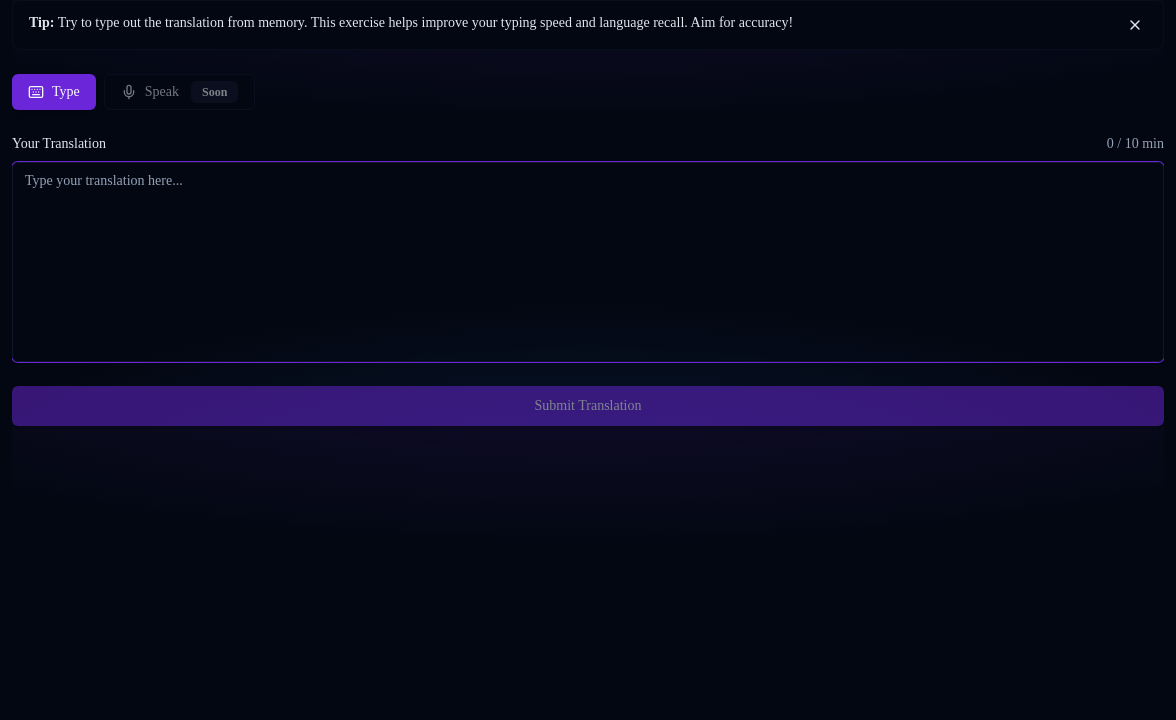
Test: ExerciseForm › displays error message when submission fails
Type "This is my translation answer" into the text box with placeholder "Type your translation here..." at (588, 262), box [12, 162, 1164, 362]
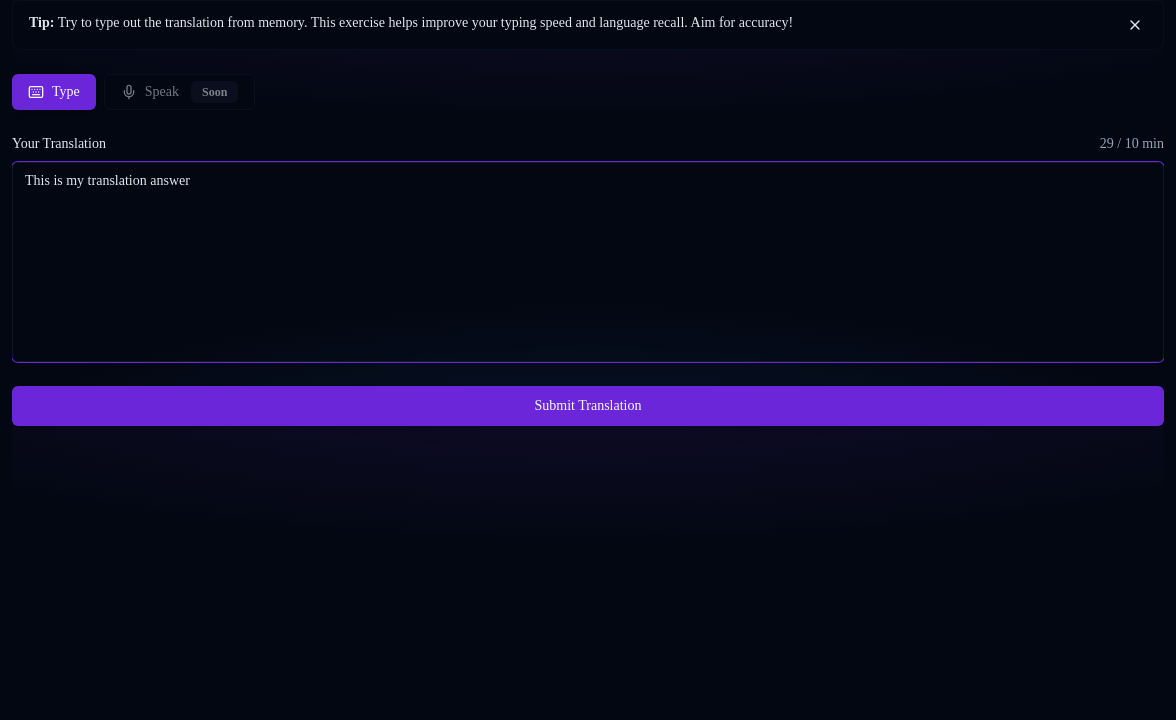
Click the button "Submit Translation" at (588, 406), box [12, 386, 1164, 426]
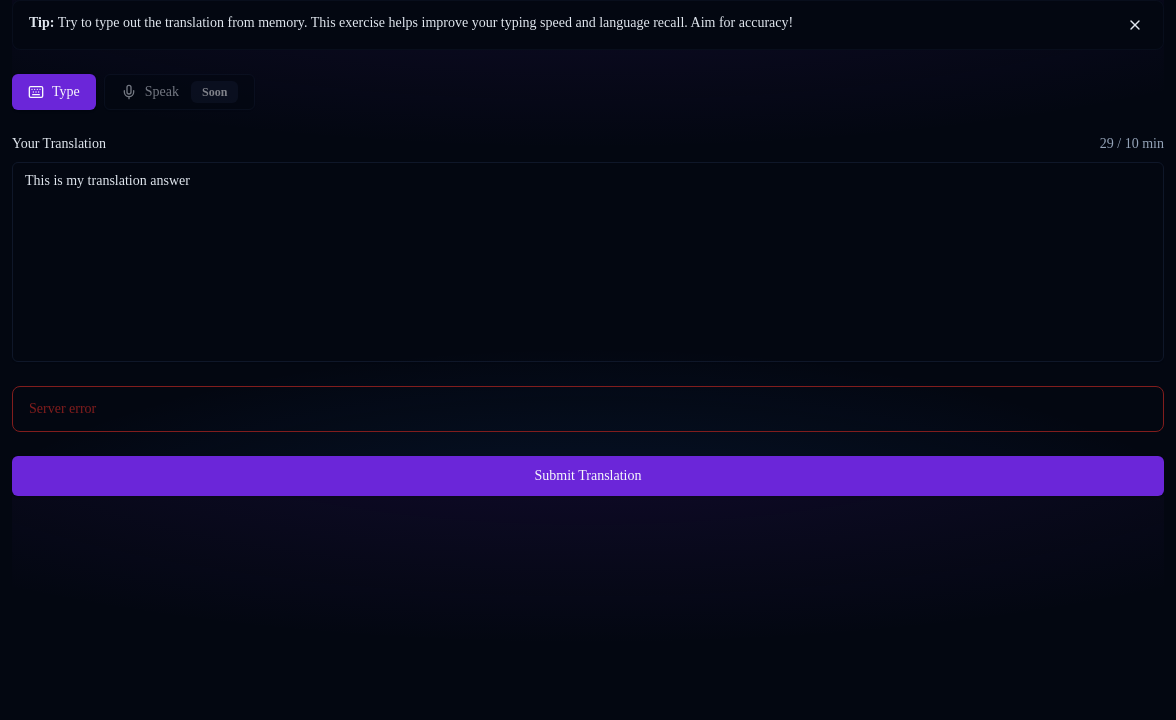
Now the text "Server error" is shown, box [29, 401, 96, 416]
